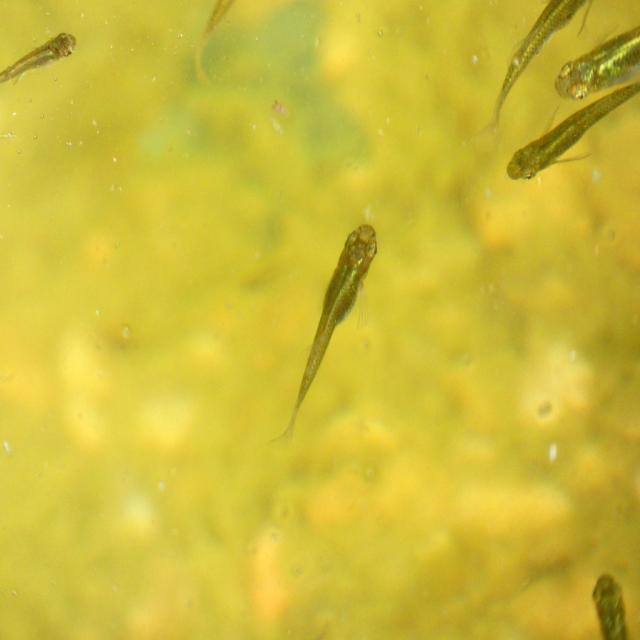Sivrisinek Baligi: (289, 222, 382, 446), (505, 79, 633, 183), (552, 2, 640, 103), (0, 29, 77, 98), (577, 568, 639, 639)
